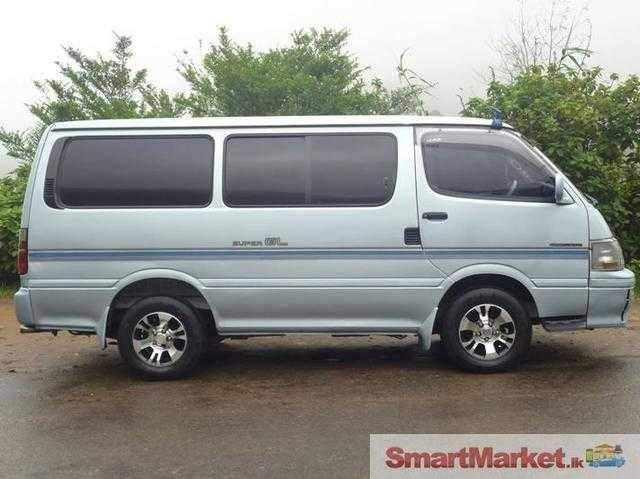car: (27, 116, 640, 373)
